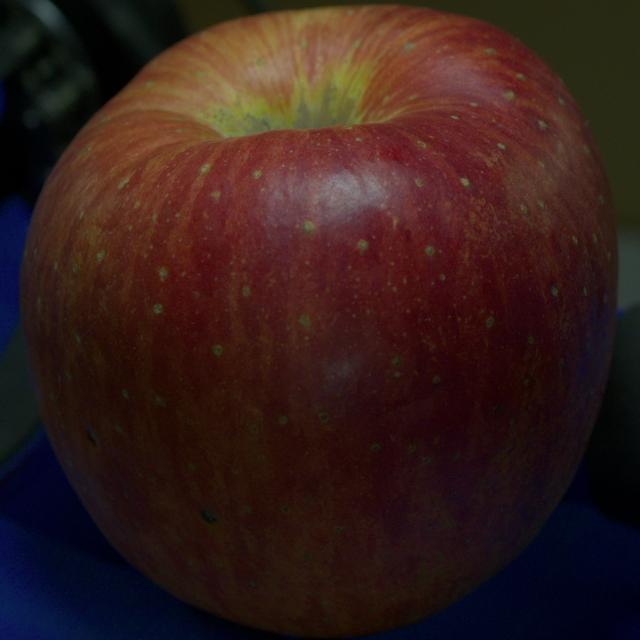apple: (20, 6, 616, 635)
pest: (201, 509, 218, 522), (88, 431, 96, 444)
